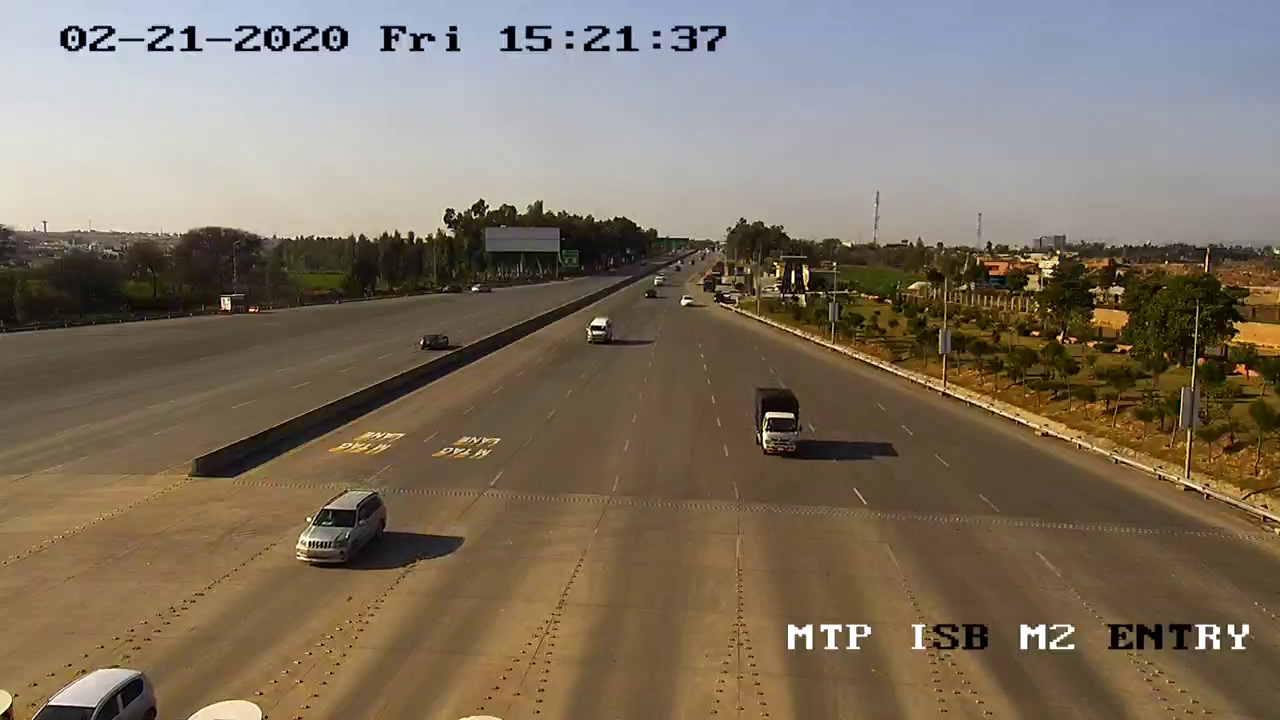f1: (286, 480, 395, 577)
f5: (745, 379, 811, 468)
